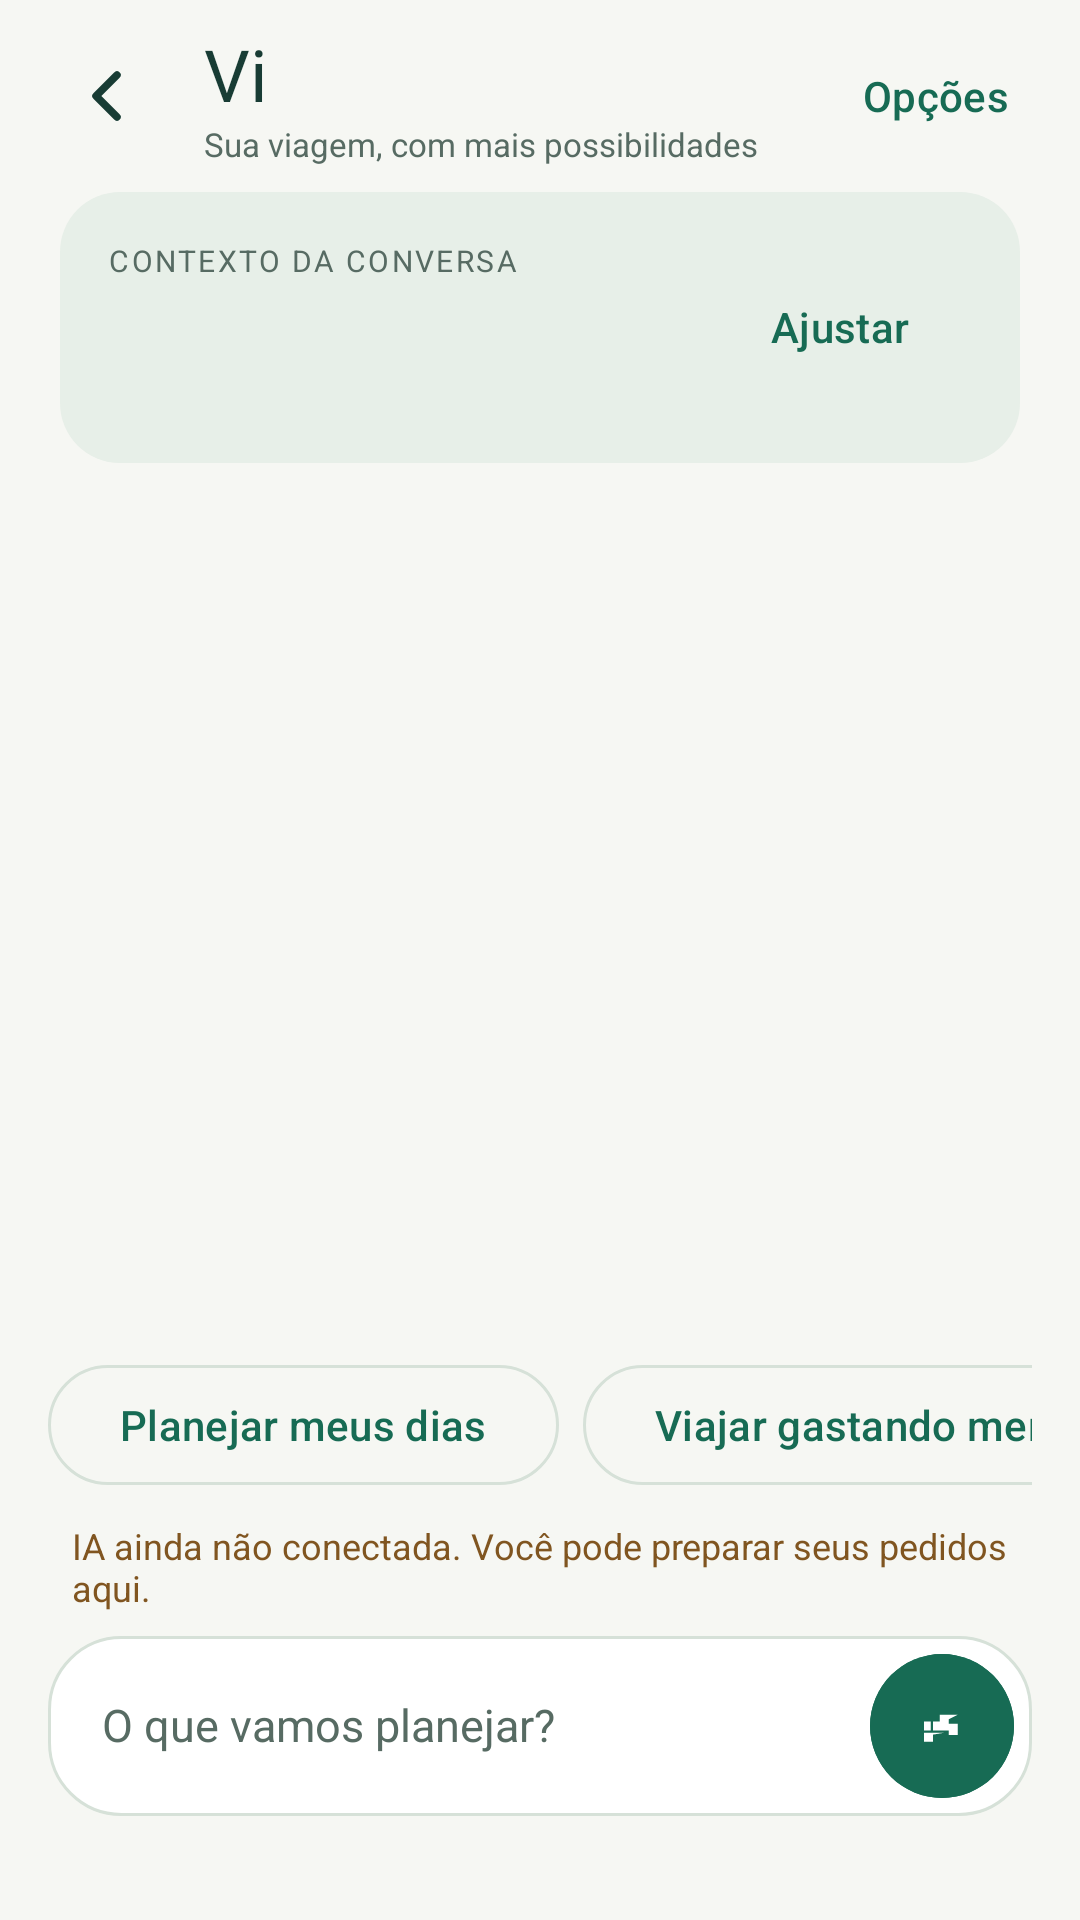

Icon click points for this 1080px x 1920px phone screenshot, format (x,y):
Voltar: (106,96)
